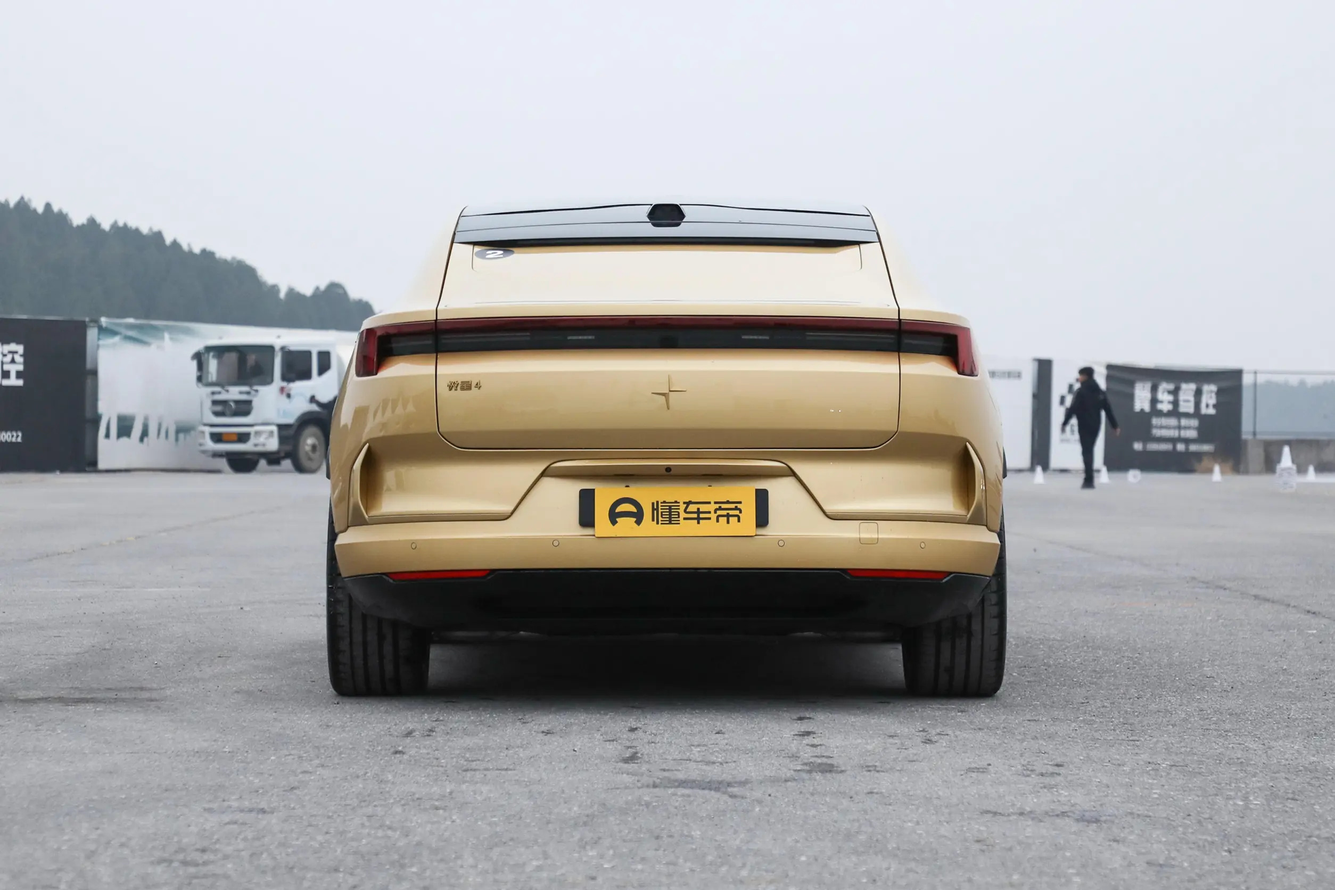Polestar: (652, 375, 686, 409)
